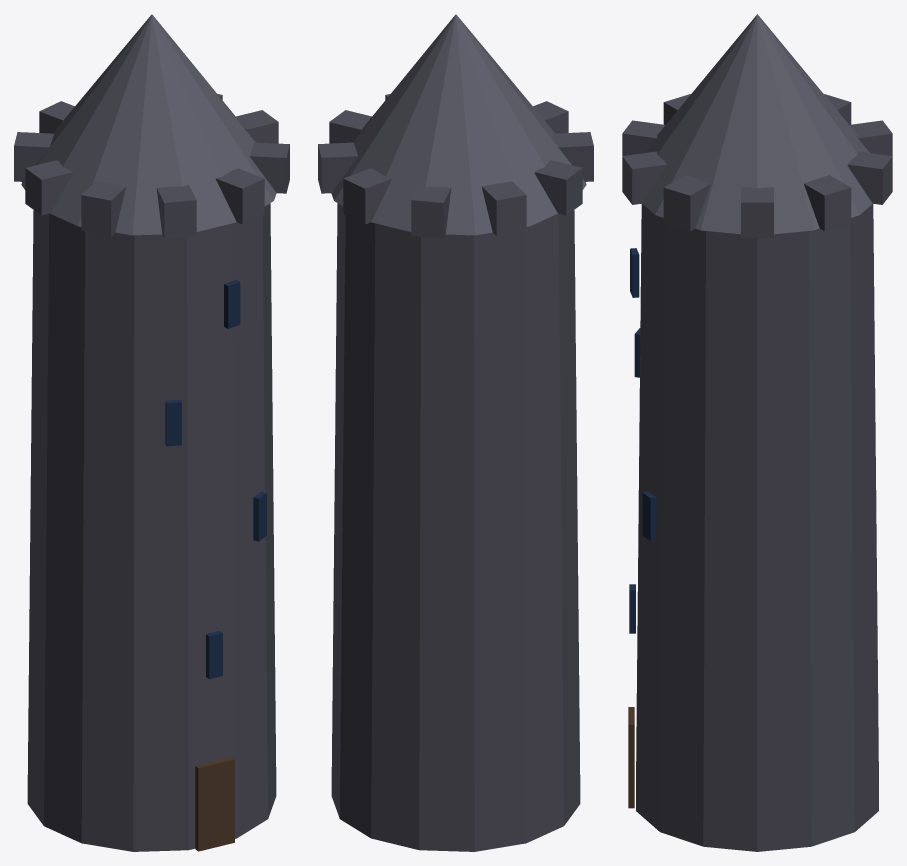
File: tower_vr.glb
3 views of the same model, side by side, from view 1: azimuth 30°, elevation 25°; view 2: azimuth 150°, elevation 25°; view 3: azimuth 270°, elevation 25° (orthographic).
Parts seen in each view (by area): view 1: tower_vr; view 2: tower_vr; view 3: tower_vr.
Boxes of the visible parts, left/top/right/bottom form: tower_vr: left=14, top=14, right=289, bottom=851; tower_vr: left=318, top=14, right=593, bottom=851; tower_vr: left=622, top=14, right=892, bottom=851.
Size of the model in its own units: 2.09 by 6.6 by 2.06.
